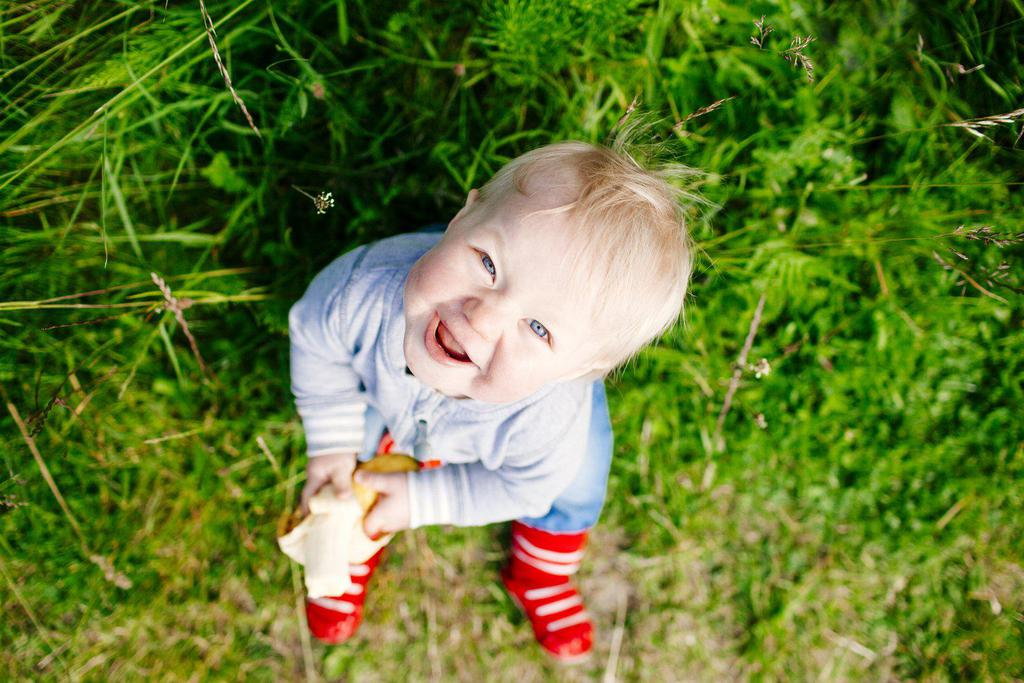child: (256, 103, 699, 674)
